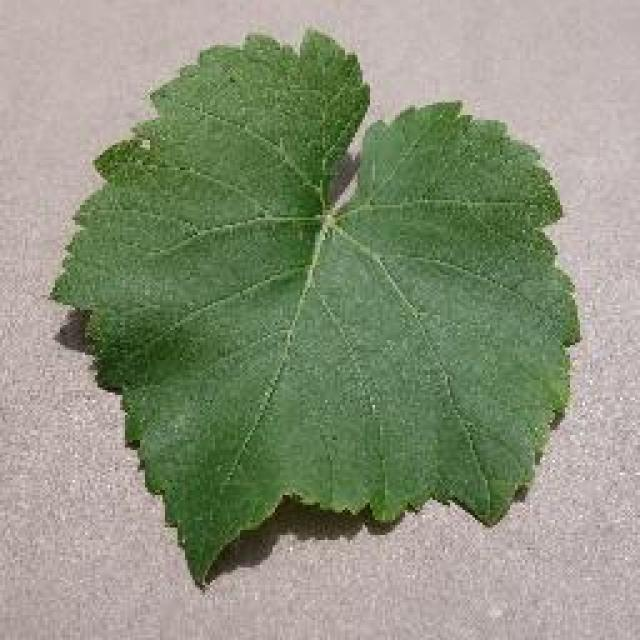Grape___healthy: (52, 30, 578, 582)
